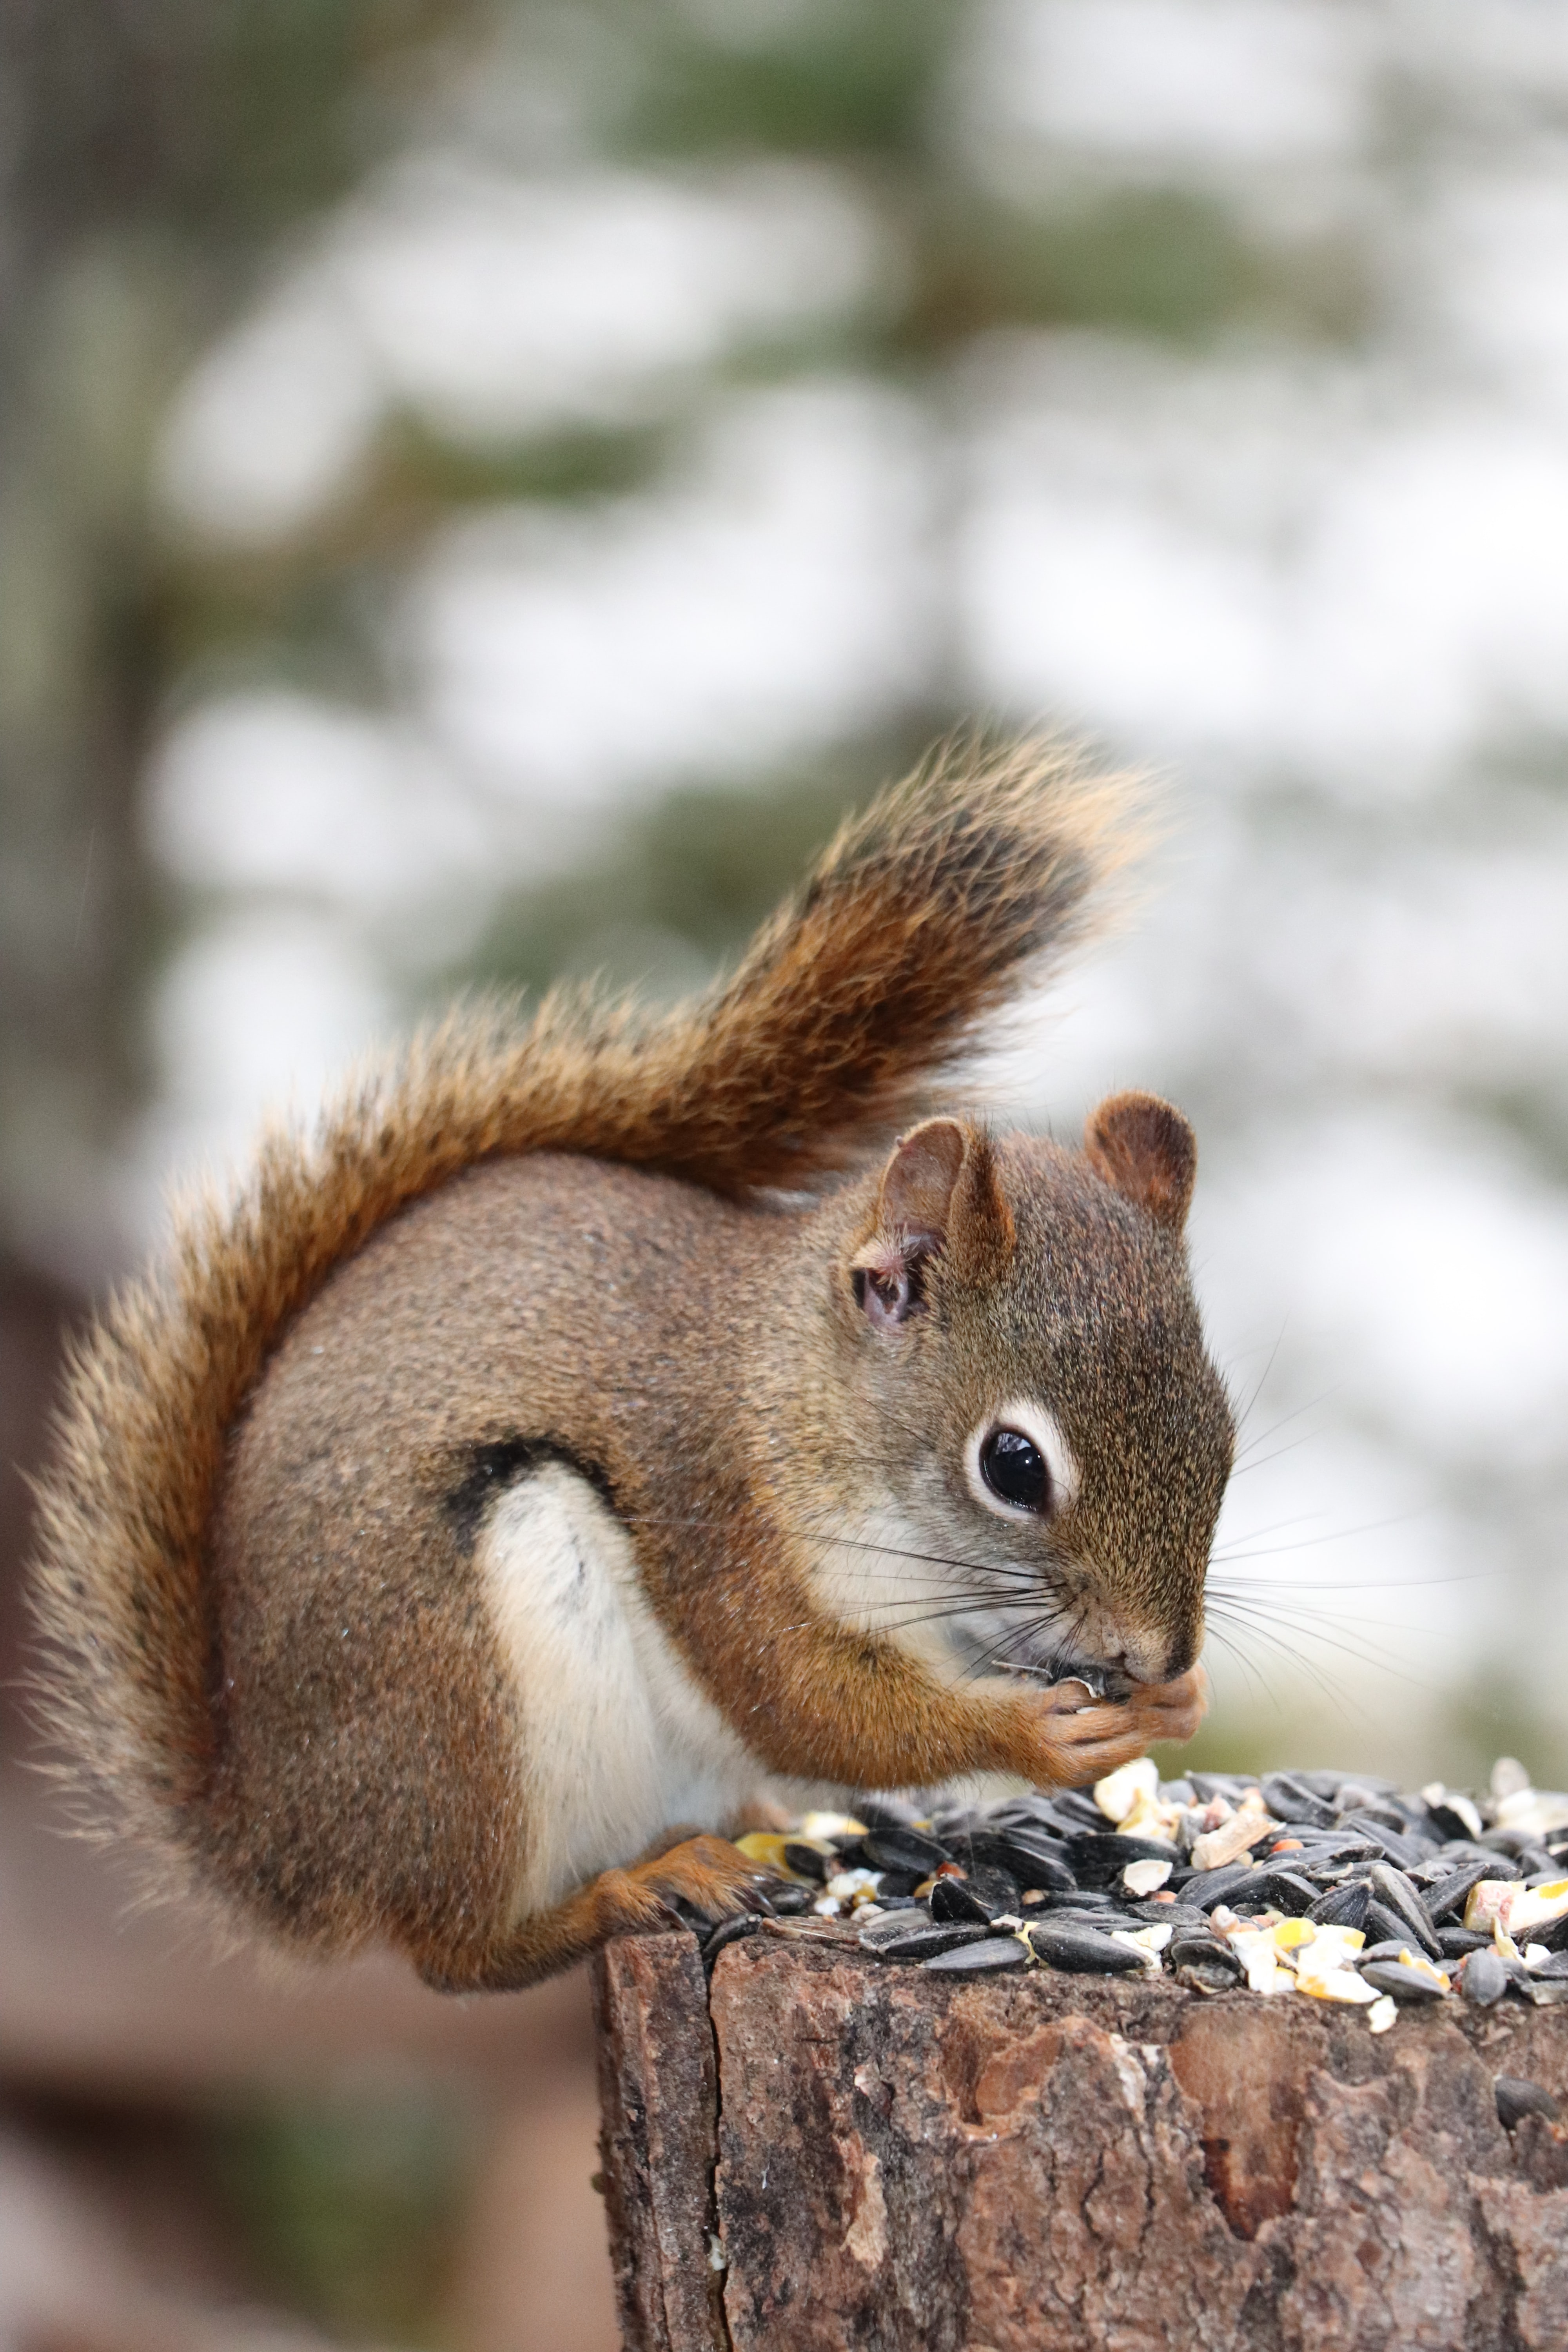squirrel: (42, 805, 1244, 2007)
